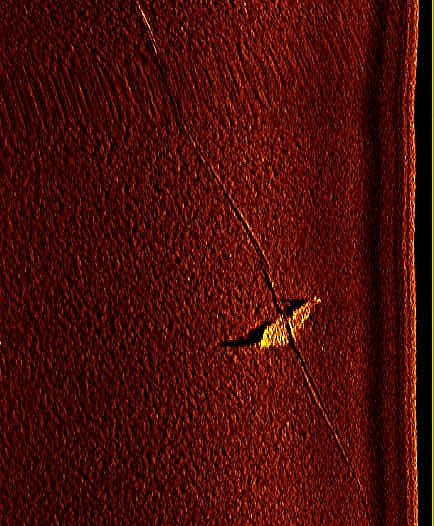ship: (255, 295, 324, 350)
